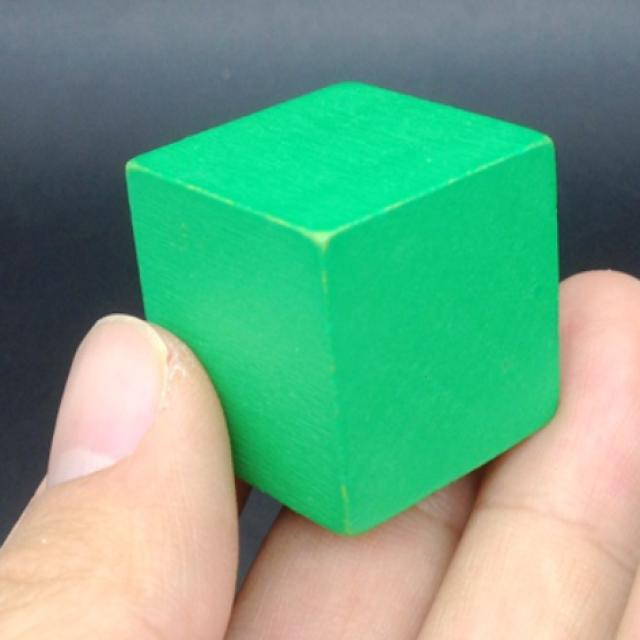green cube: (125, 81, 564, 538)
